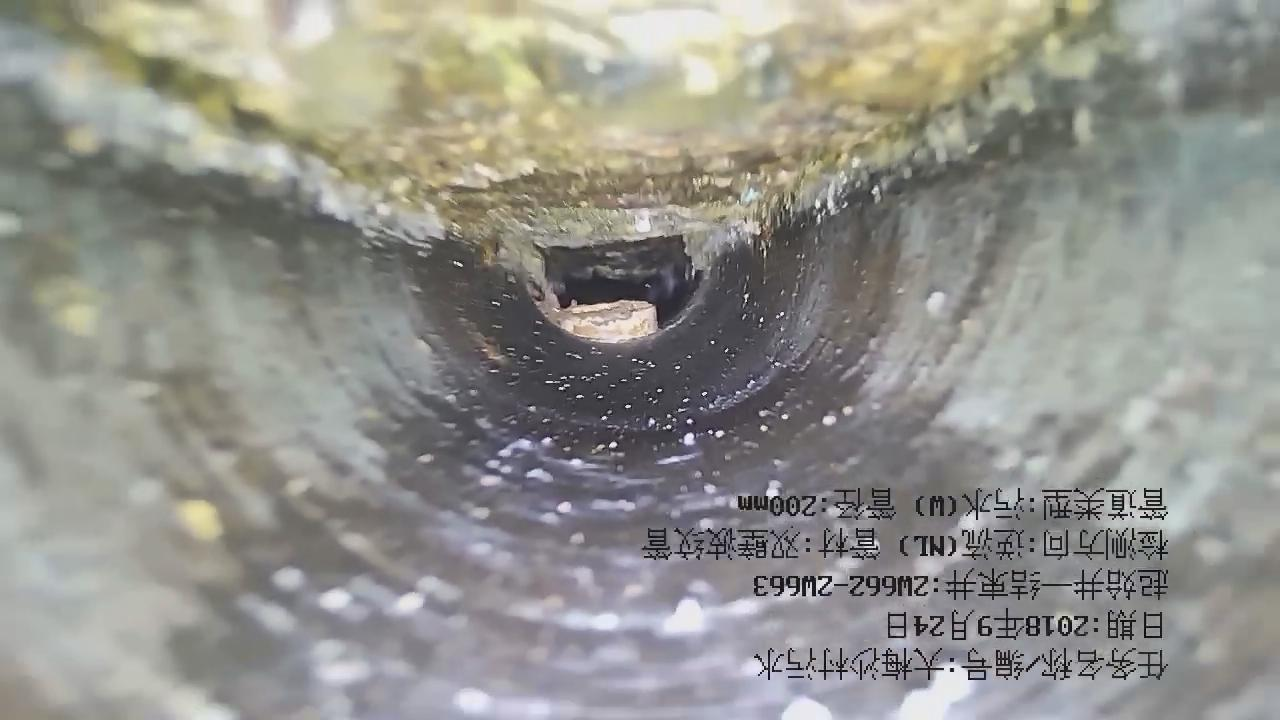CJ: (69, 1, 1099, 244)
ZGAJ: (535, 293, 659, 344)
